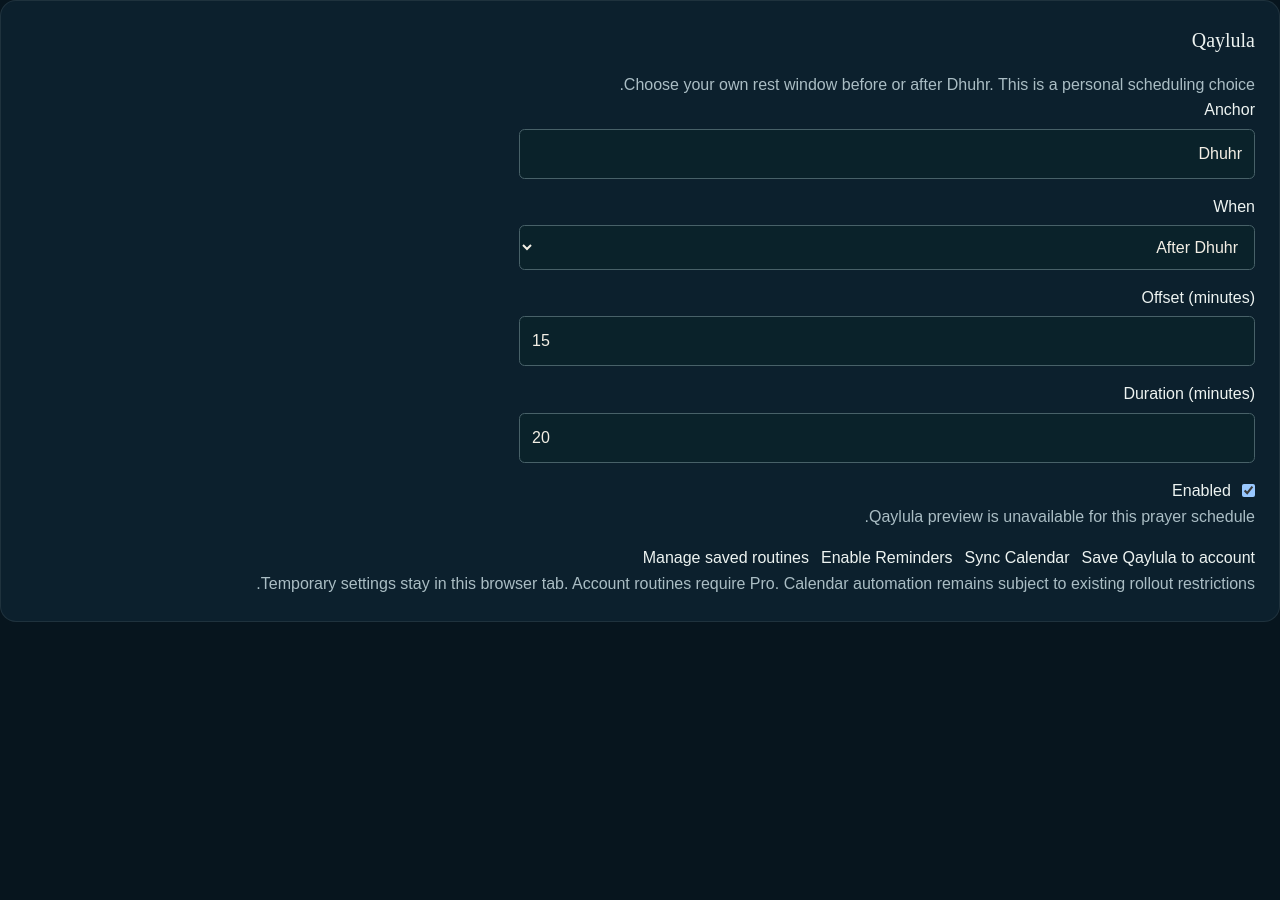
Test: preserves existing routine name, recurrence and calendar/reminder preferences when saving
The width and height of the screenshot is (1280, 900).
Click the button "Save Qaylula to account" at (1168, 558), box [1082,546,1255,570]
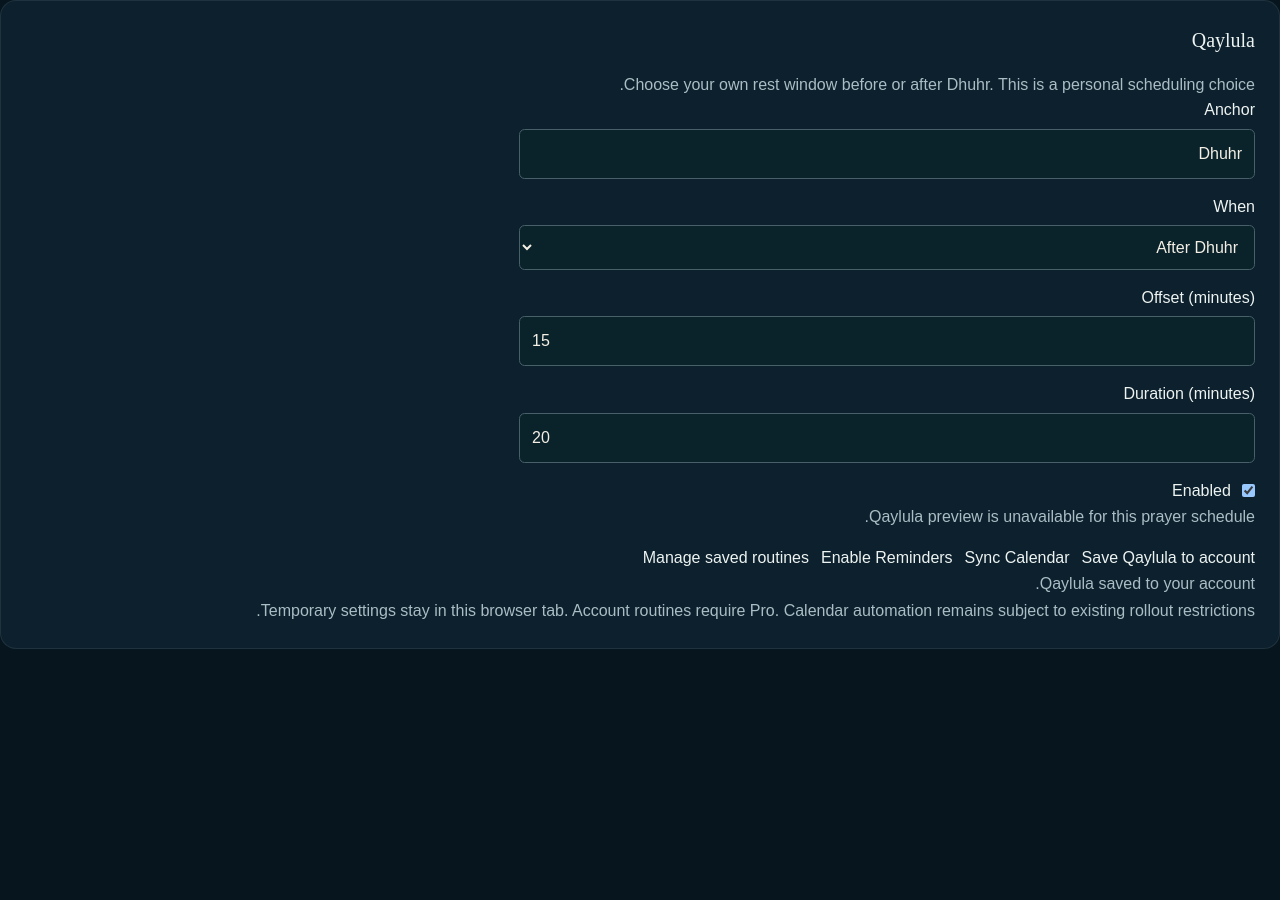
Expected: the text "Qaylula saved to your account." is shown, [1035,575,1255,592]
